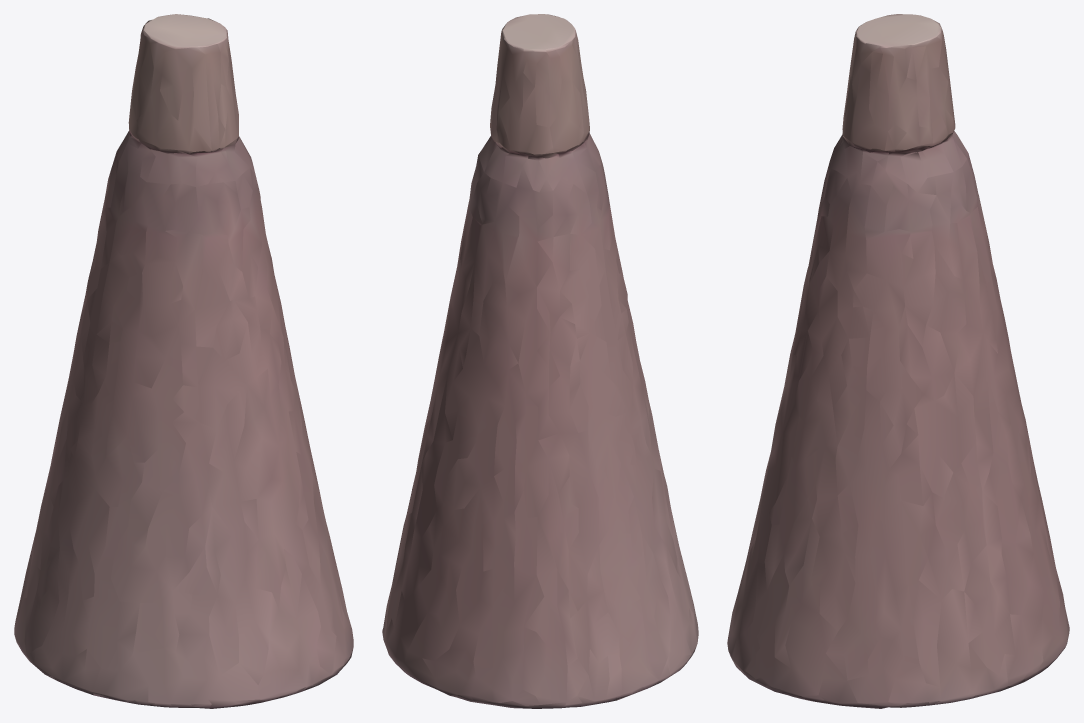
File: 0004_mask_005_pink_cup.glb
3 views of the same model, side by side, from view 1: azimuth 30°, elevation 25°; view 2: azimuth 150°, elevation 25°; view 3: azimuth 270°, elevation 25° (orthographic).
Visible parts, largest first — view 1: mask_005_object; view 2: mask_005_object; view 3: mask_005_object.
Boxes of the visible parts, box(x1,y1,x2,y2) form: mask_005_object: box(14, 14, 353, 708); mask_005_object: box(382, 14, 698, 708); mask_005_object: box(727, 14, 1069, 708).
Size of the model in its own units: 0.1491 by 0.3105 by 0.1572.
